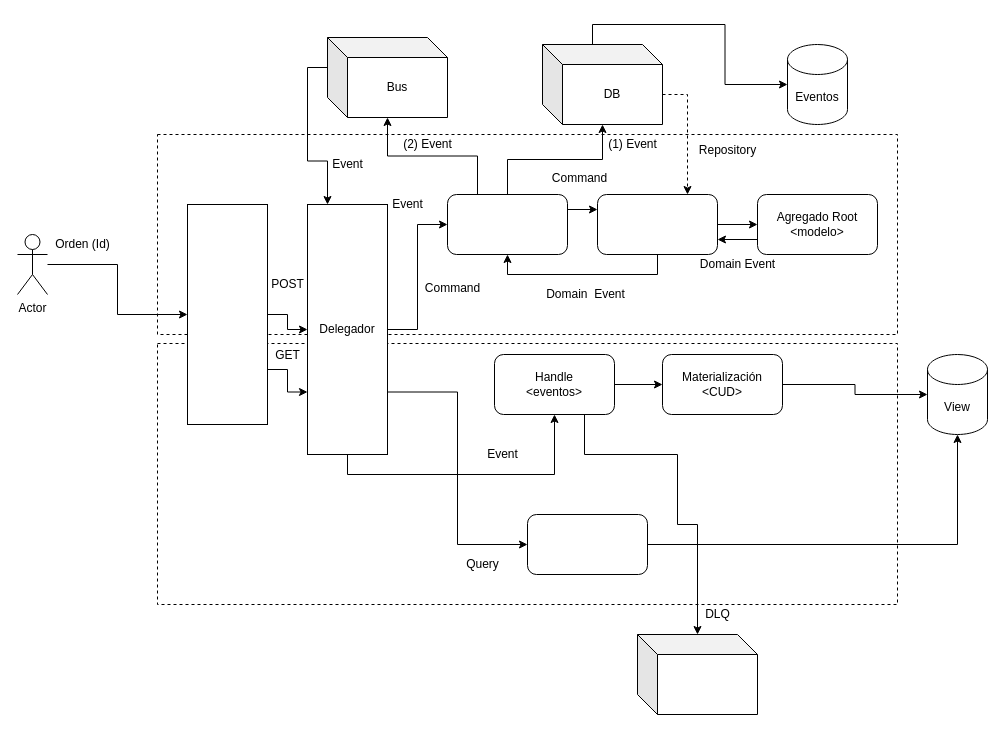
Image size: 1005x732. Some labels were removed from this diagram. The shapes that lost their labels are listed below. From the top down, each one's centre as x and y in pixels, then its label:
At pixel 507 224: "Handle <comandos y eventos>".
At pixel 657 224: "Casos de Uso <logica>".
At pixel 227 314: "API".
At pixel 587 544: "Handle <queries>".
At pixel 697 674: "Errores".
